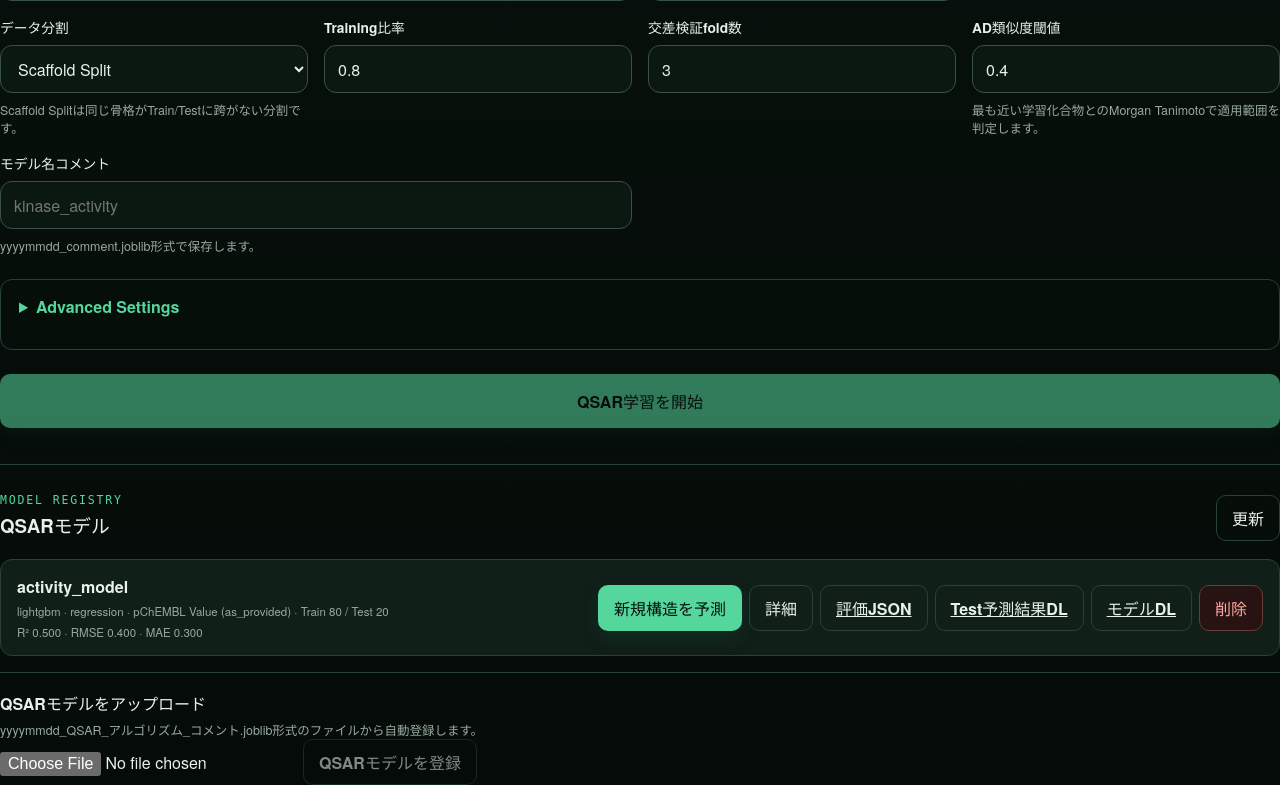
Test case: QsarPanel model evaluation › predicts a molecule drawn or entered for a registered model
(page scrolled)
Step 1. Click the button "新規構造を予測" → {"x": 670, "y": 608}, box [598, 584, 742, 630]
(page scrolled)
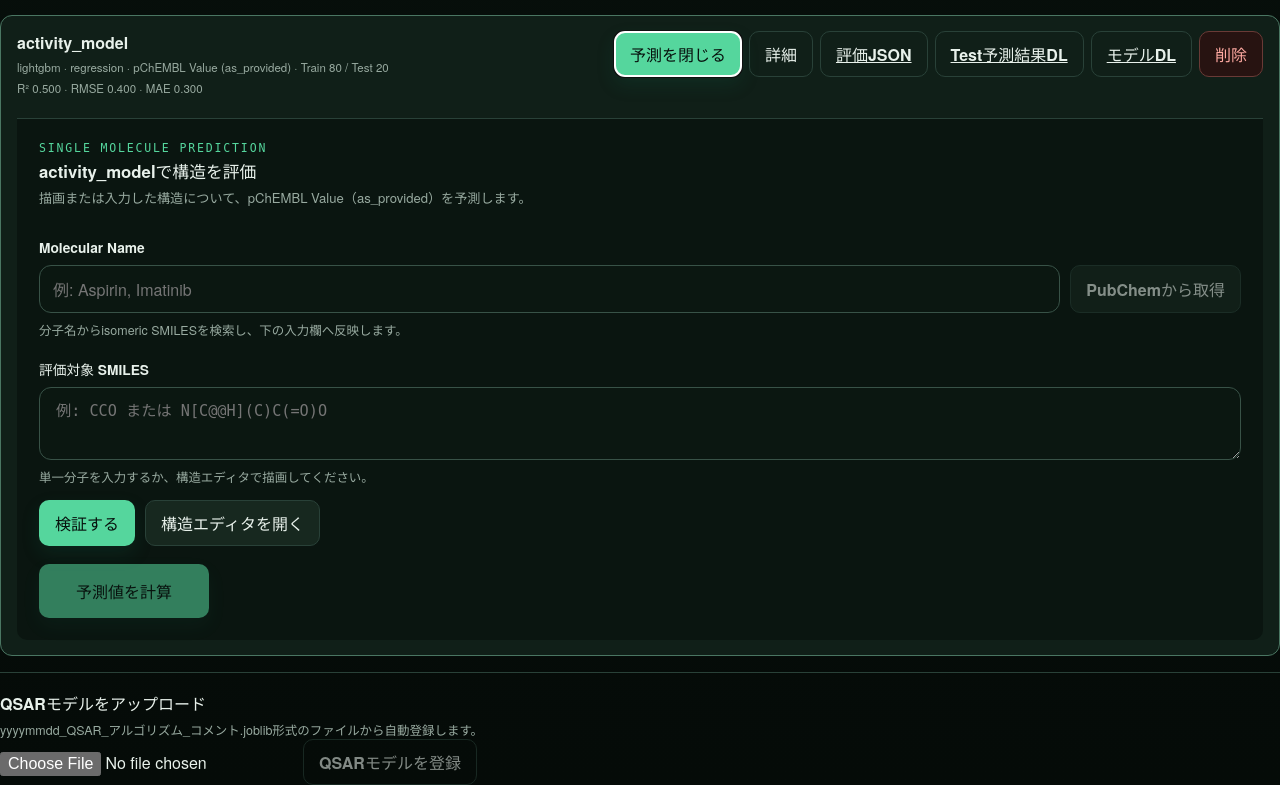
Step 2. Type "CCO" into the text box labelled "評価対象 SMILES" → {"x": 640, "y": 423}, box [39, 387, 1241, 460]
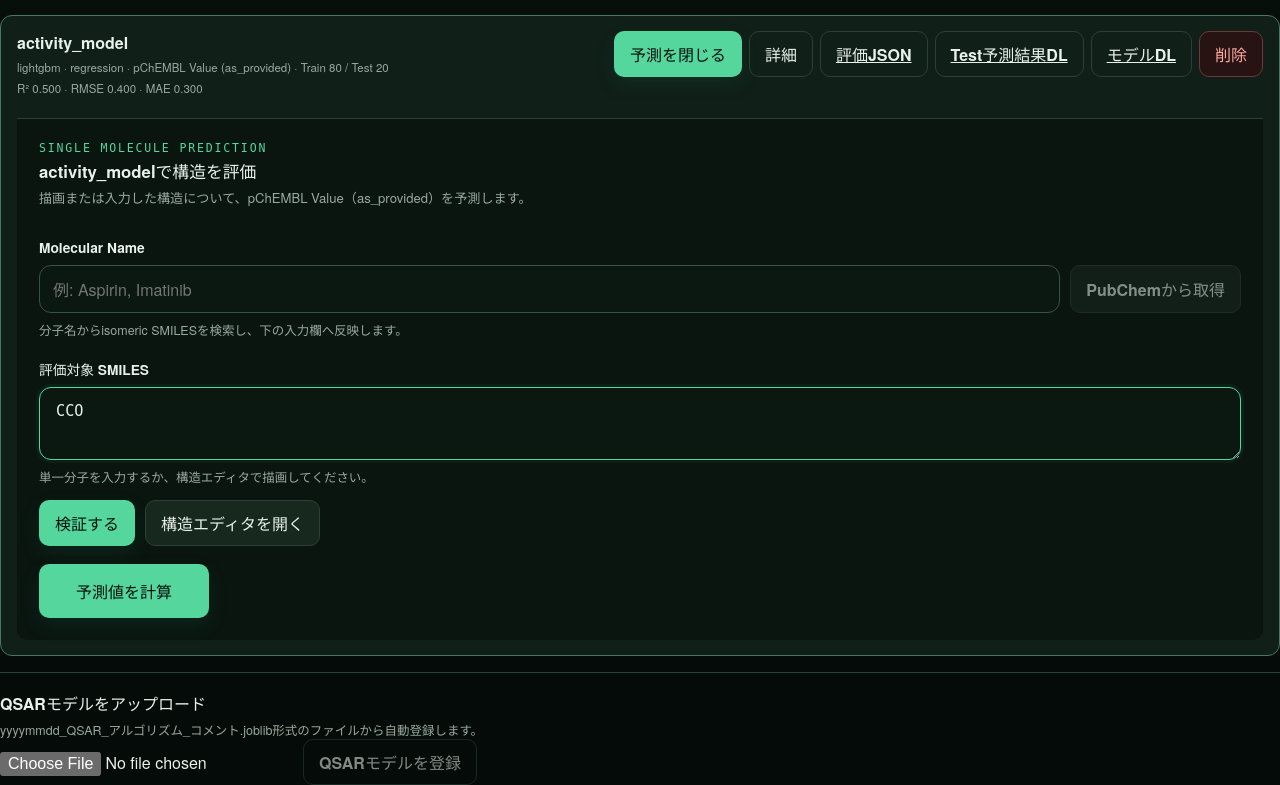
Step 3. Click the button "予測値を計算" → {"x": 124, "y": 591}, box [39, 564, 209, 618]
(page scrolled)
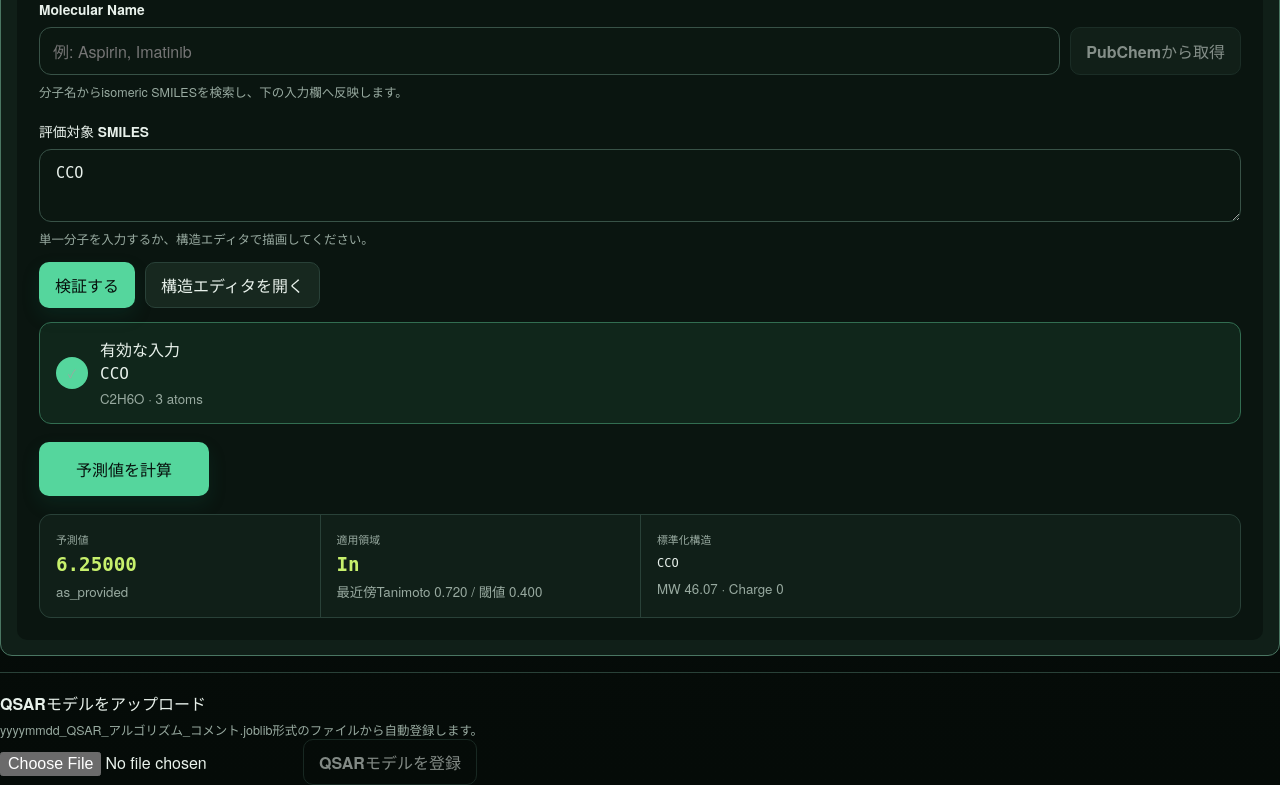
Check: the text "6.25000" is shown, box [56, 553, 137, 576]
Check: the text "In" is shown, box [336, 553, 360, 576]
Check: the text "最近傍Tanimoto 0.720 / 閾値 0.400" is shown, box [336, 582, 542, 601]
